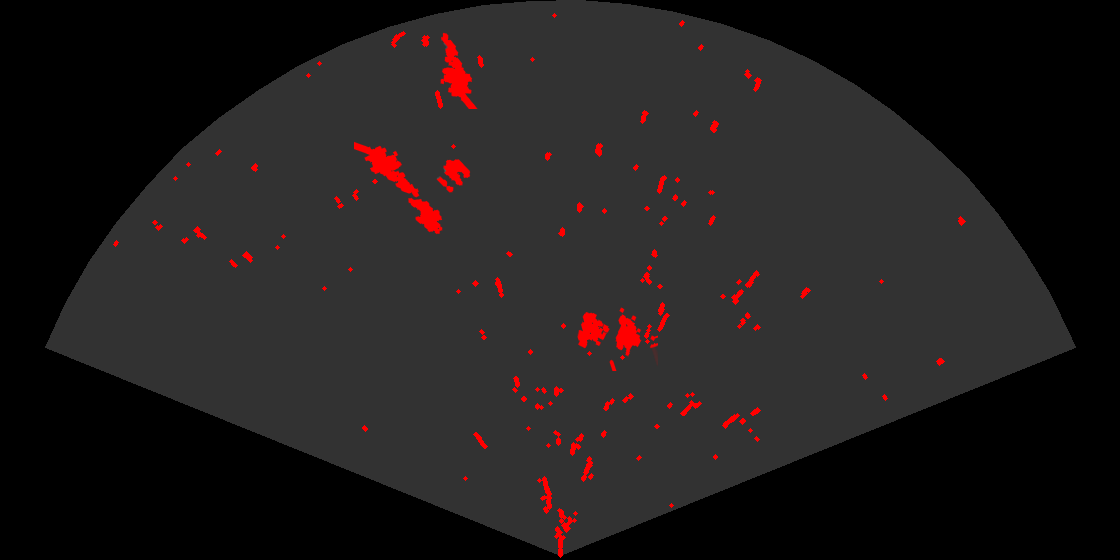AUV: (407, 196, 444, 236)
ball: (435, 158, 472, 194)
cage: (576, 306, 658, 371)
frogman: (354, 140, 421, 199), (439, 31, 479, 109)
